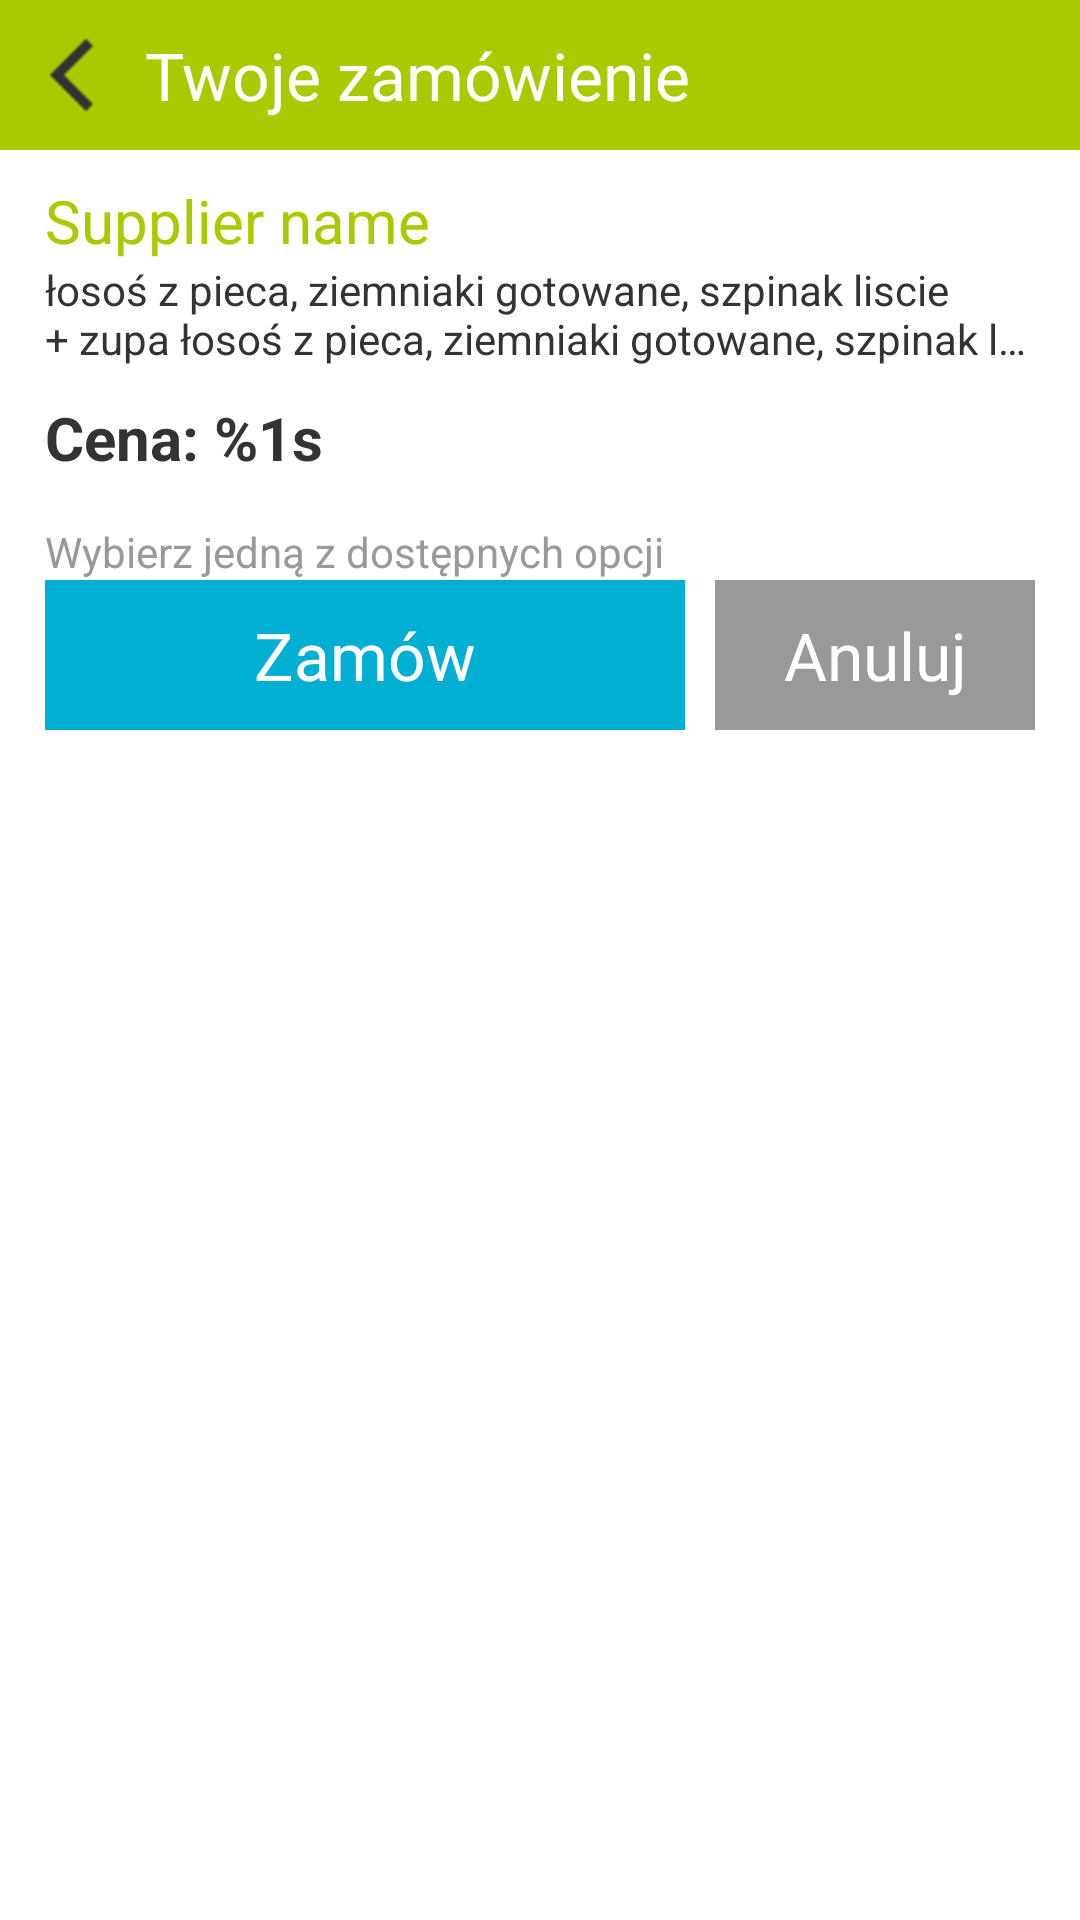

Icons on this 1080 × 1920 Android screen, each with its box as rect(x1, y1, x2, y2):
back: rect(50, 39, 94, 111)
